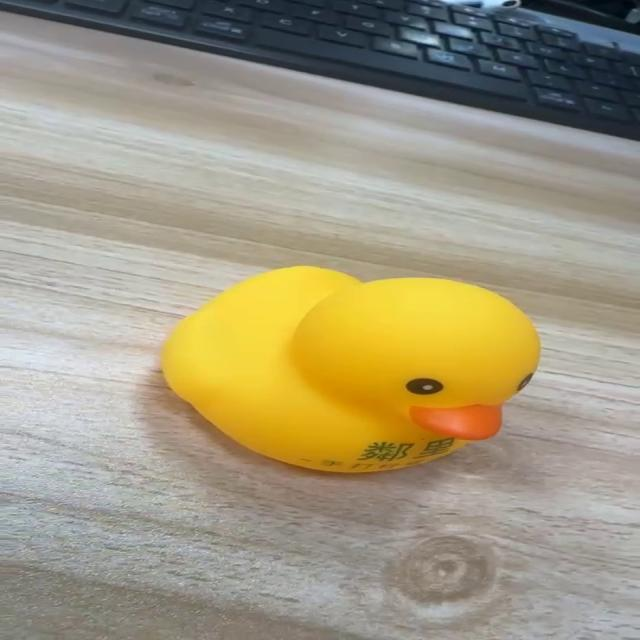yellow_duck: (158, 263, 542, 474)
